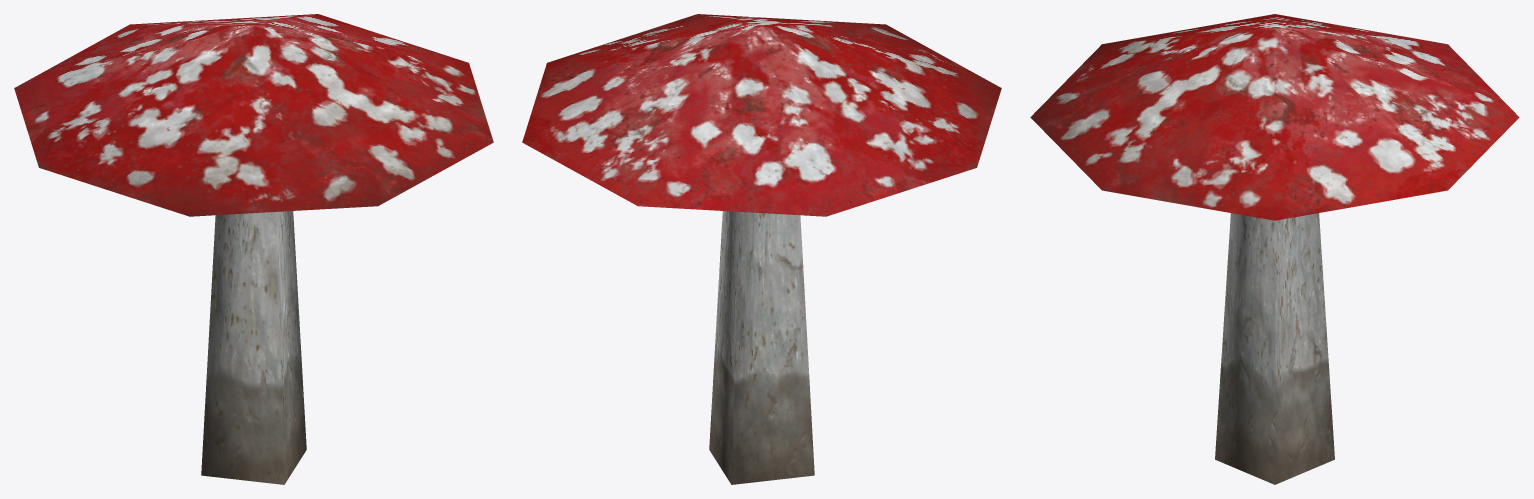
Rendered from Shrooms.fbx.
3 renders of one model, left to right at view 1: azimuth 30°, elevation 25°; view 2: azimuth 150°, elevation 25°; view 3: azimuth 270°, elevation 25°, orthographic.
Visible parts, largest first — view 1: polySurface1; view 2: polySurface1; view 3: polySurface1.
Boxes of the visible parts, left/top/right/bottom form: polySurface1: left=14, top=14, right=493, bottom=484; polySurface1: left=522, top=14, right=1001, bottom=484; polySurface1: left=1030, top=14, right=1519, bottom=484.
Bounding box in the file's own units: 0.3281 × 0.3183 × 0.3281.
Materials: 1 (1 with a texture image).
